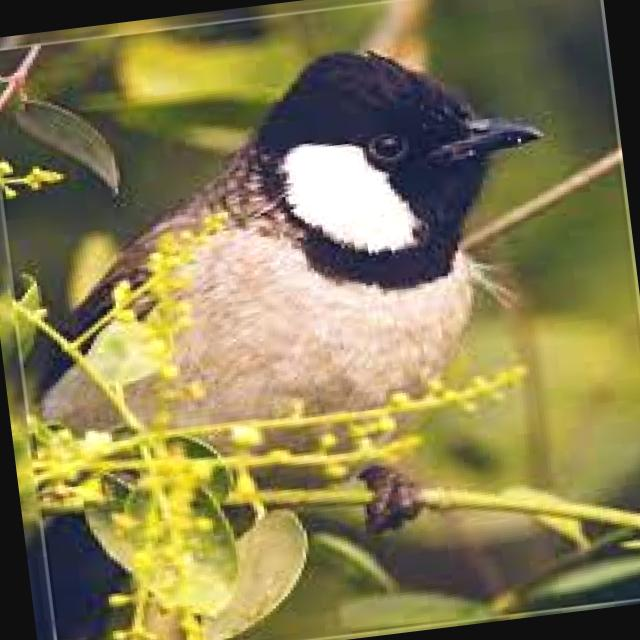bird: (2, 11, 593, 576)
